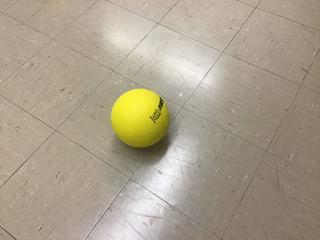power_cell: (106, 85, 176, 152)
